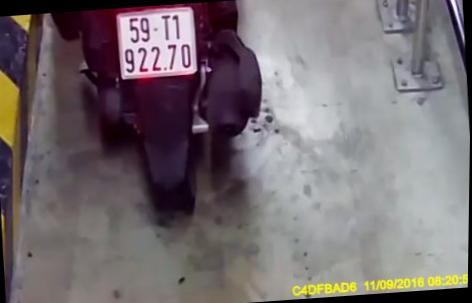LP: (114, 4, 198, 82)
